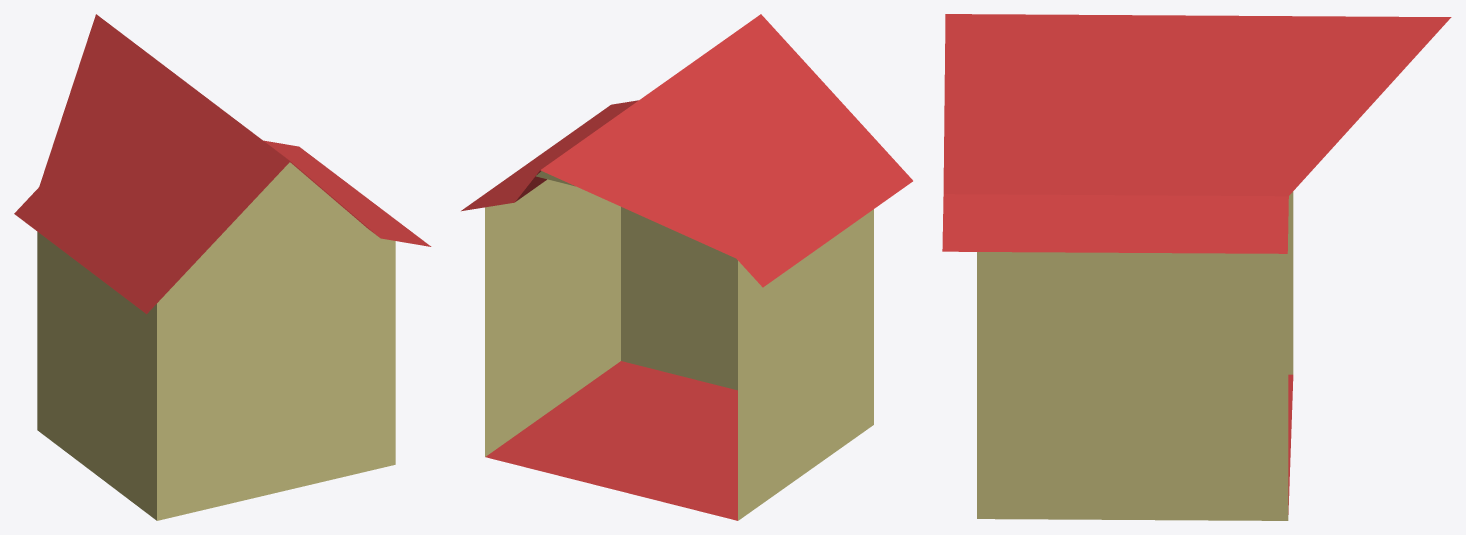
3 renders of one model, left to right at view 1: azimuth 30°, elevation 25°; view 2: azimuth 150°, elevation 25°; view 3: azimuth 270°, elevation 25°, orthographic. The views are drawn at different scales.
Bounding box in the file's own units: 12.36 × 15.01 × 14.07.
